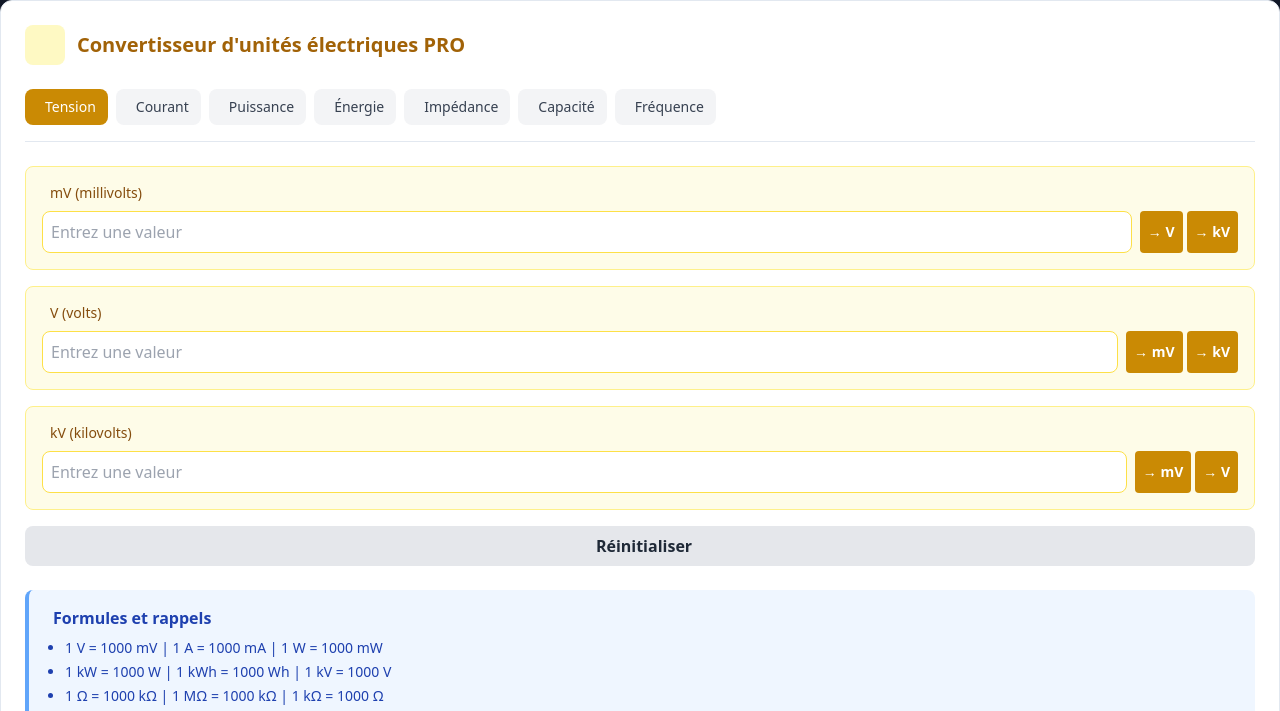
it: ElectricalUnitConverter › switches between categories
Click the button with aria-label "Afficher les conversions de Courant" at (158, 107), box [116, 89, 201, 125]
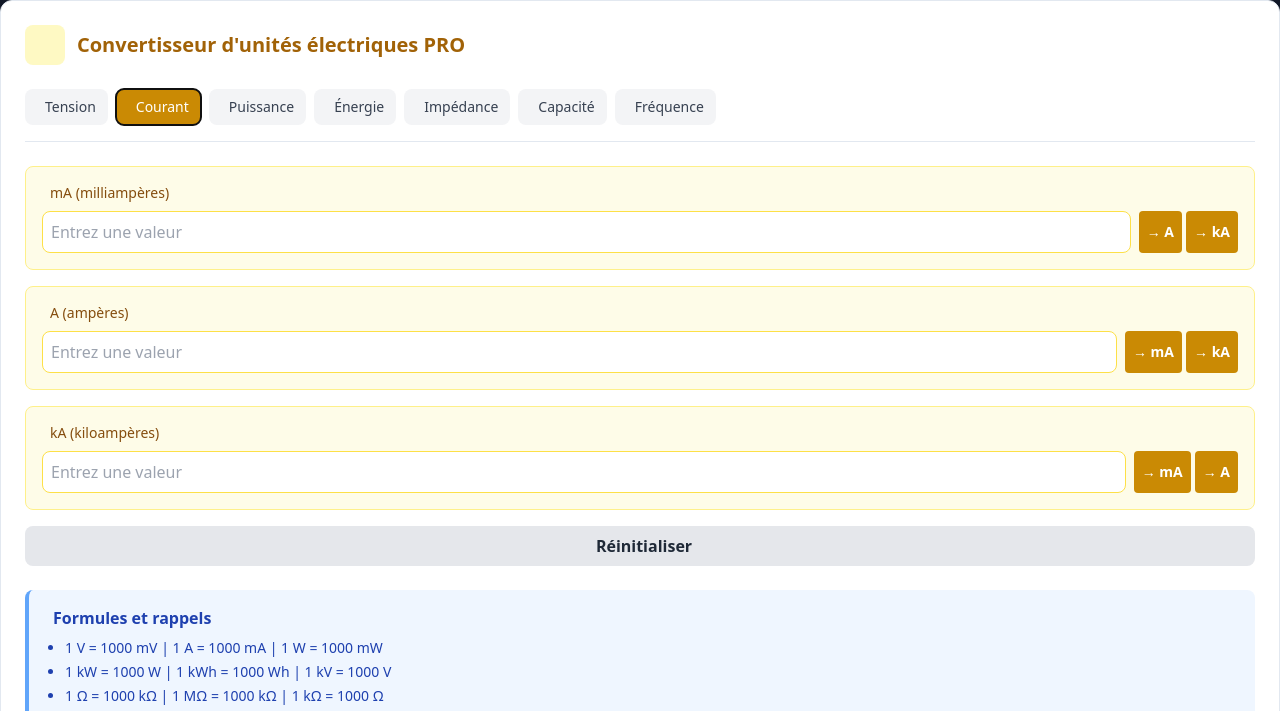
Result: the text "mA (milliampères)" is shown at [50, 183, 169, 203]
